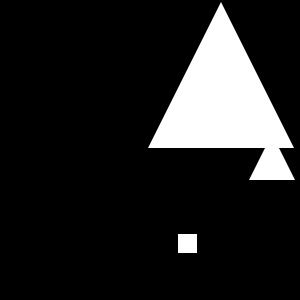circle: (178, 234, 197, 253)
triangle: (148, 2, 294, 148), (249, 134, 295, 180)
